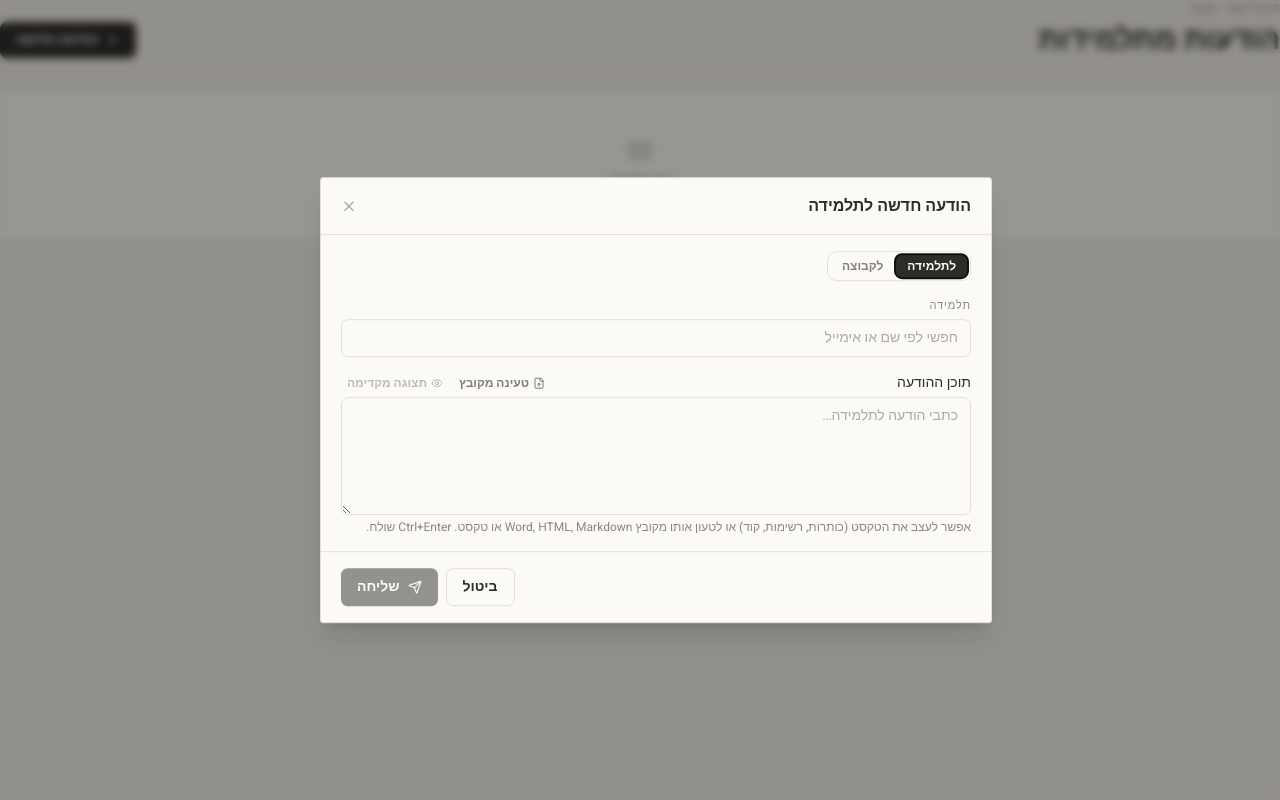
a message to a whole group › sends the message to the group chosen and says how many students got it
Click the radio button labelled "לקבוצה": {"x": 863, "y": 266} [830,254,895,278]
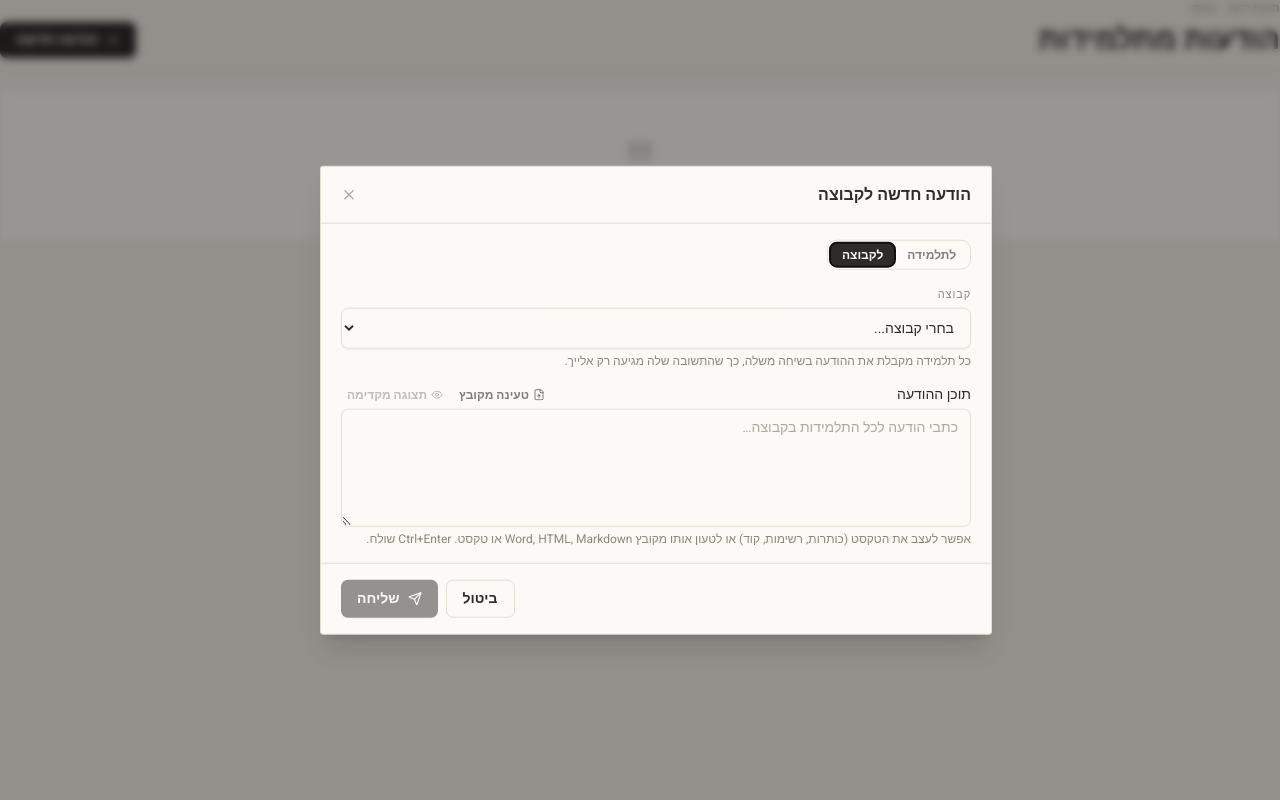
Select "סמינר יד תשפ״ז (12 תלמידות)" in the dropdown labelled "קבוצה": {"x": 656, "y": 328} [341,307,971,348]
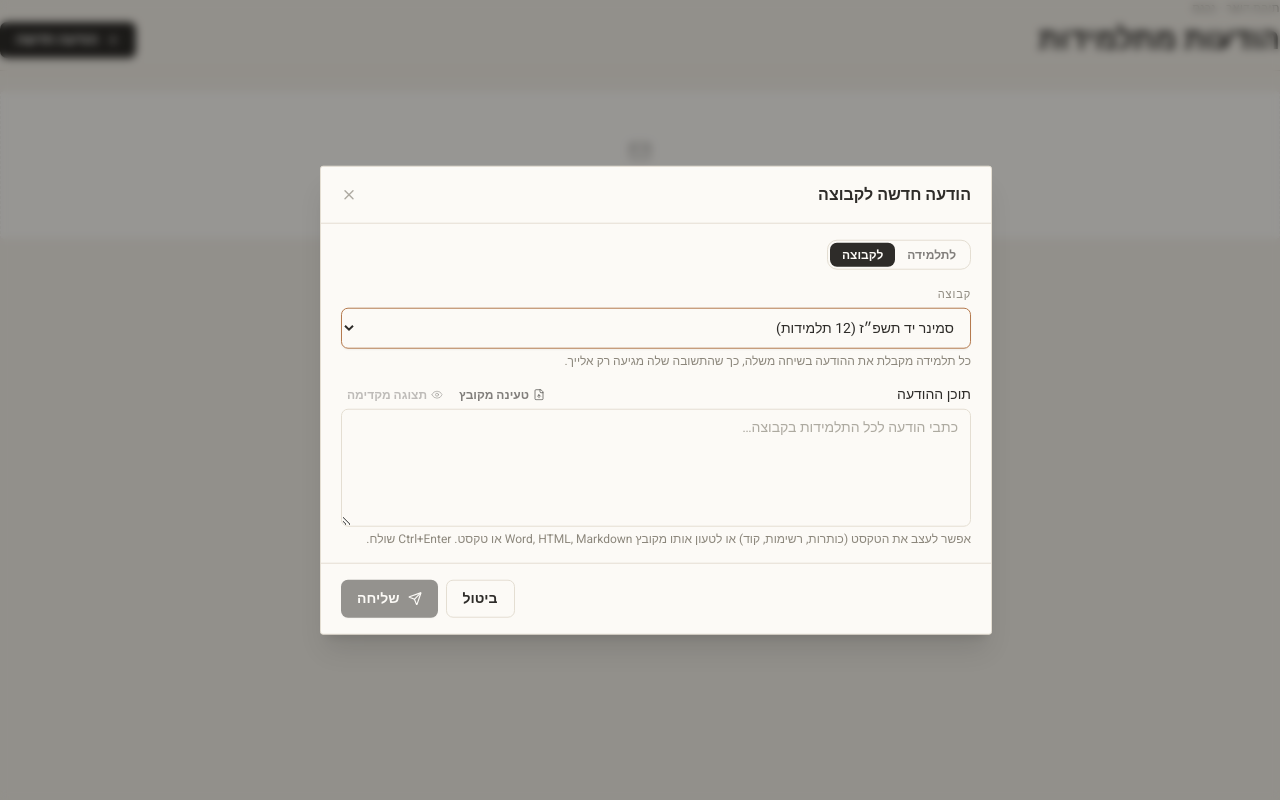
In the text box with placeholder "כתבי הודעה לכל התלמידות בקבוצה…": {"x": 656, "y": 467} [341,408,971,526], type "שיעור מחר מבוטל"
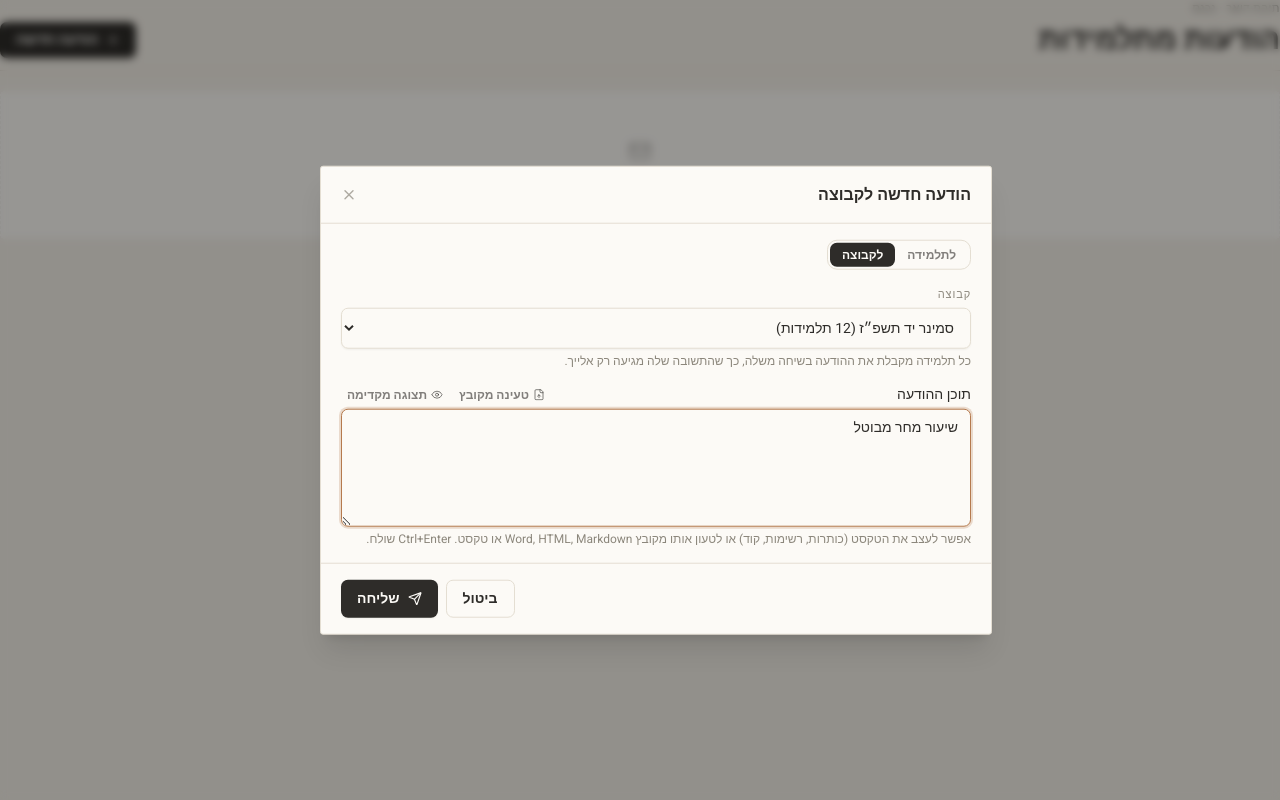
Click the button "שליחה": {"x": 389, "y": 598} [341,579,438,617]
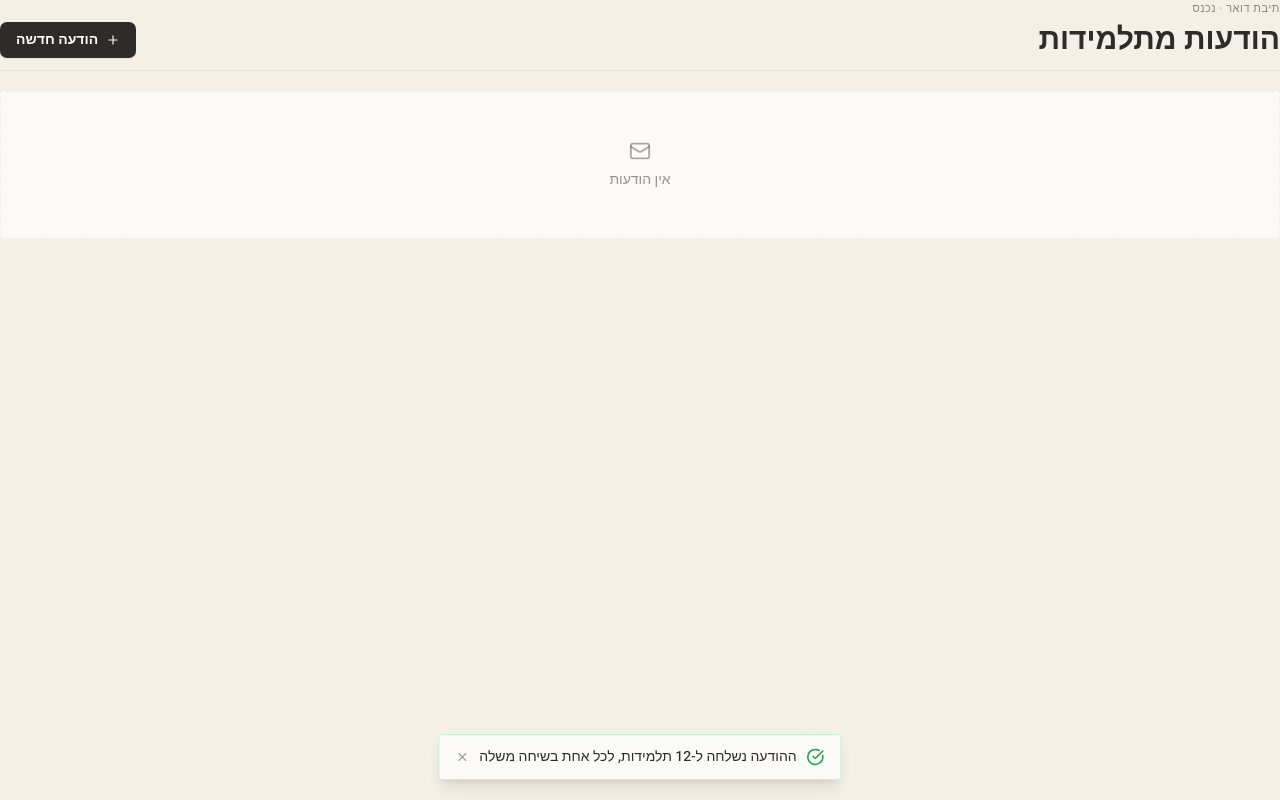
Result: the text "ההודעה נשלחה ל-12 תלמידות, לכל אחת בשיחה משלה" is shown at [479,747,797,767]
